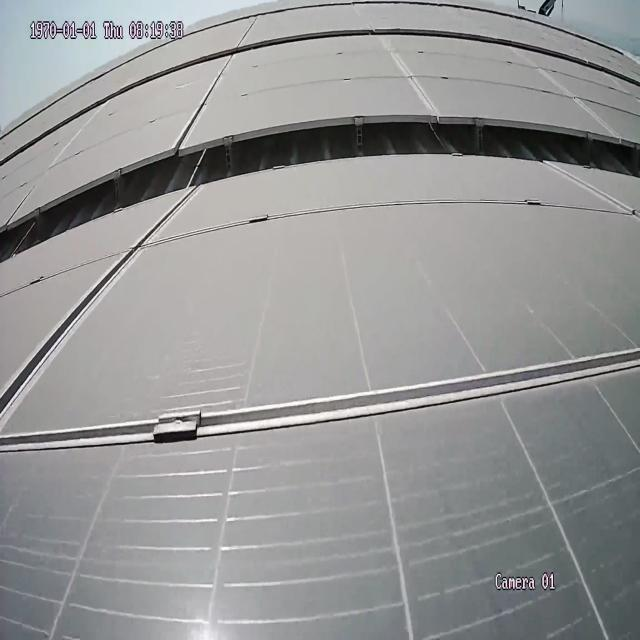interior panel: (0, 201, 638, 457), (379, 42, 440, 107), (177, 63, 231, 134)
outher panel: (4, 111, 640, 260)
